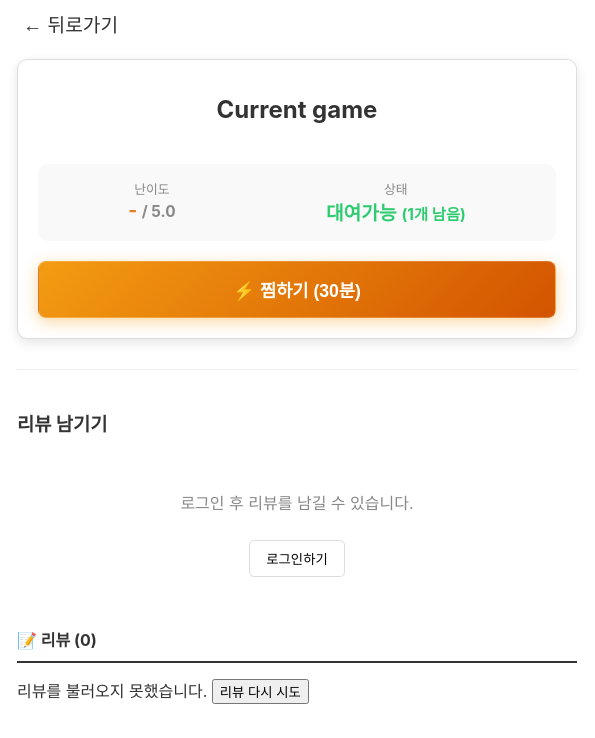
Test: does not let a review failure block the game and allows review retry
Expected: the heading "Current game" is shown, top-left (217, 95), bottom-right (377, 124)
Click the button "리뷰 다시 시도": (260,692) top-left (212, 679), bottom-right (309, 704)
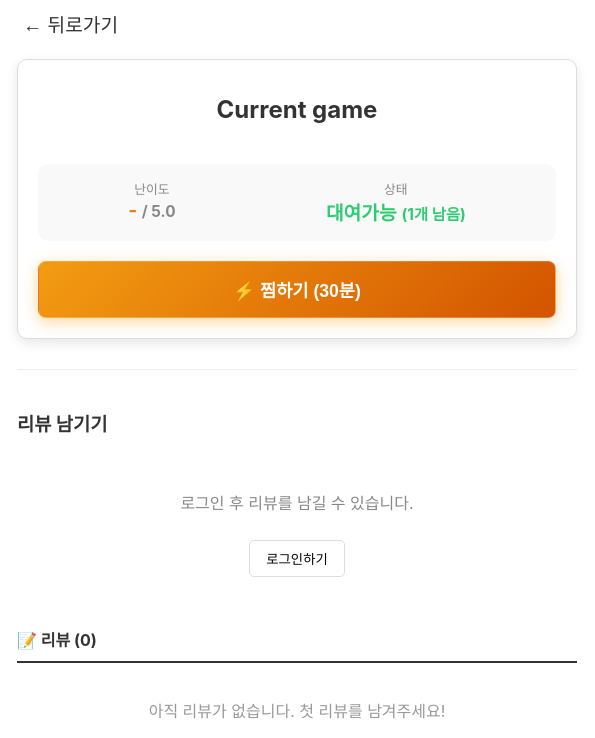
Now the text "아직 리뷰가 없습니다. 첫 리뷰를 남겨주세요!" is shown, box top-left (149, 701), bottom-right (445, 721)
